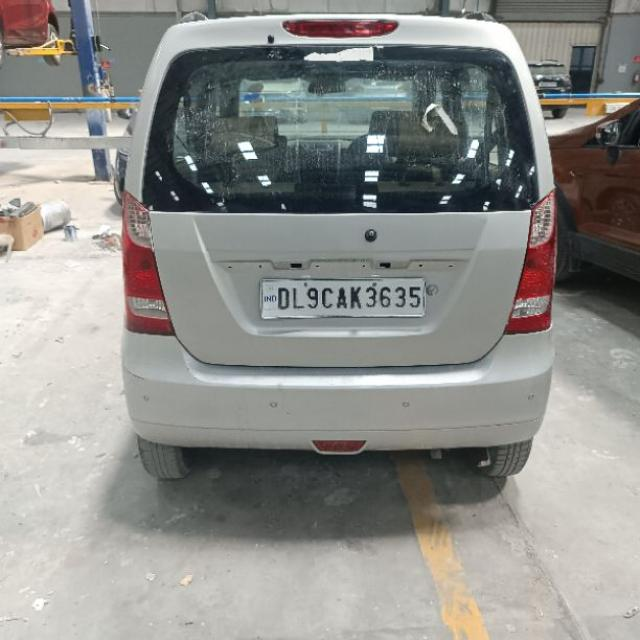license_plate: (258, 276, 427, 319)
